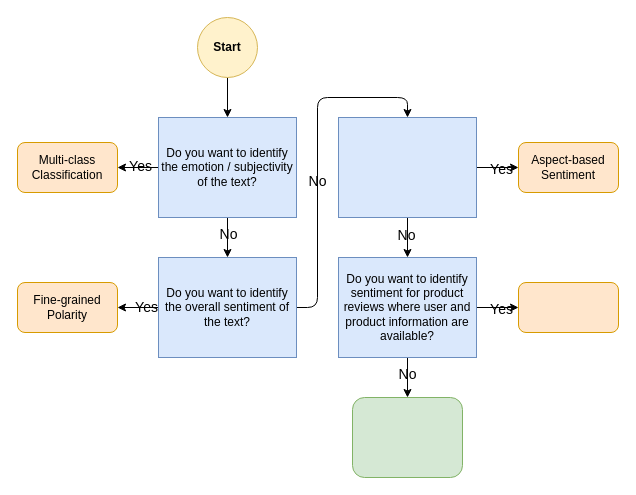
Image size: 636x495. Some labels were removed from this diagram. Each missing label, with the centre of its shape:
"Custom Algorithms for more Custom Problems" goes at point 407,437.
"Do you want to identify the sentiment of a particular word/object in the text?" goes at point 407,167.
"User-Product Sentiment" goes at point 568,307.
